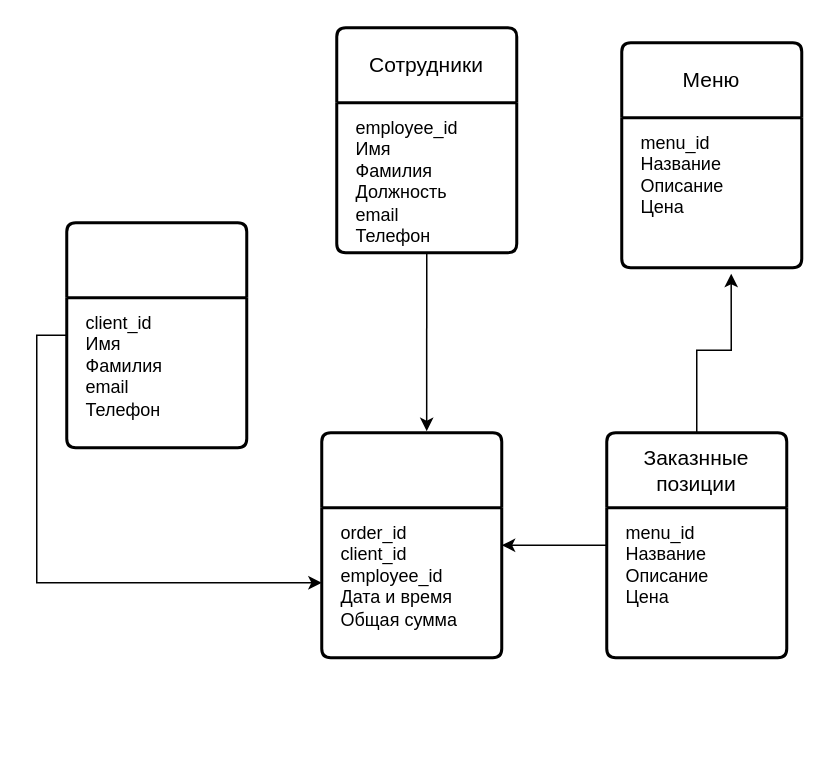
Image size: 830x771. Some labels were removed from this diagram. The box of each missing label's shape, as (x1, y1, x2, y2) in pixels:
Заказы: (320, 430, 502, 658)
Клиенты: (64, 220, 248, 448)
